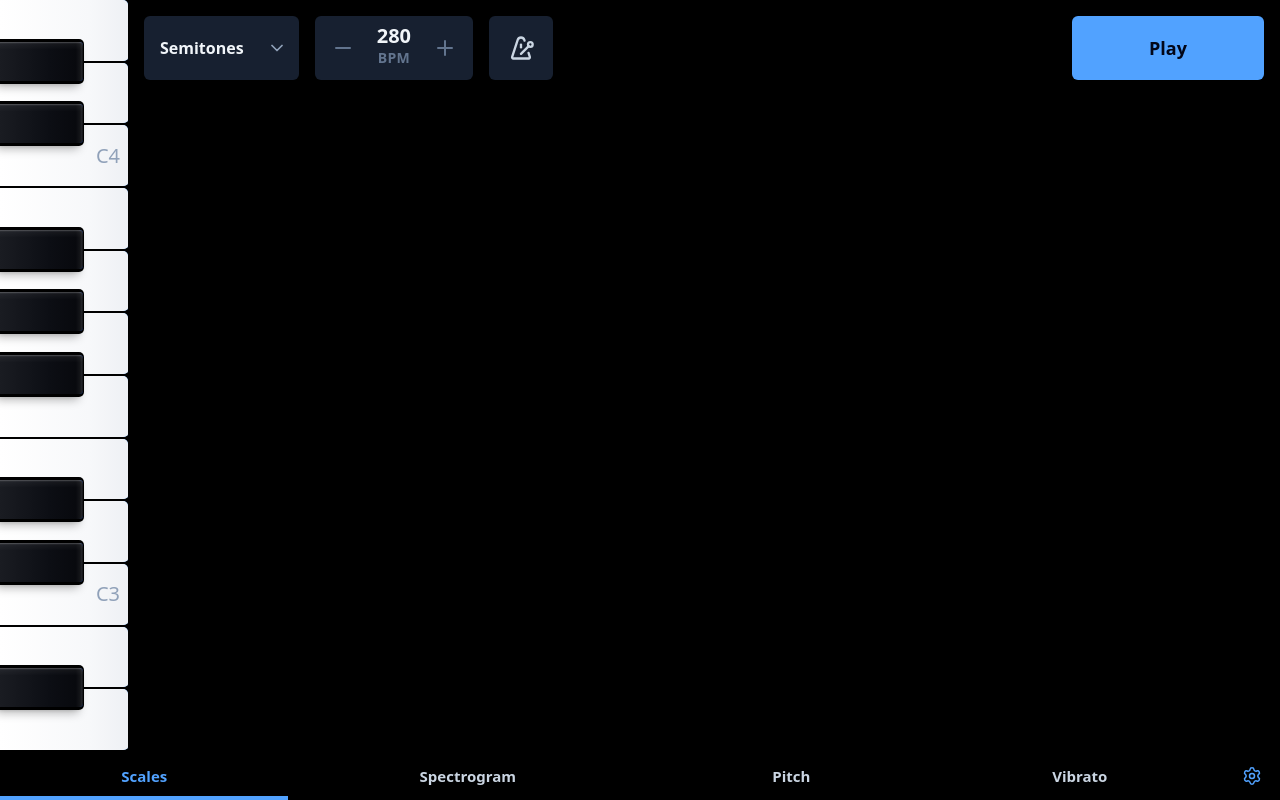
Scenario: Scales page › Settings opens directly from the scales page
Step 1. Click the button named "Open settings" → (1252, 776), box [1232,752,1272,799]
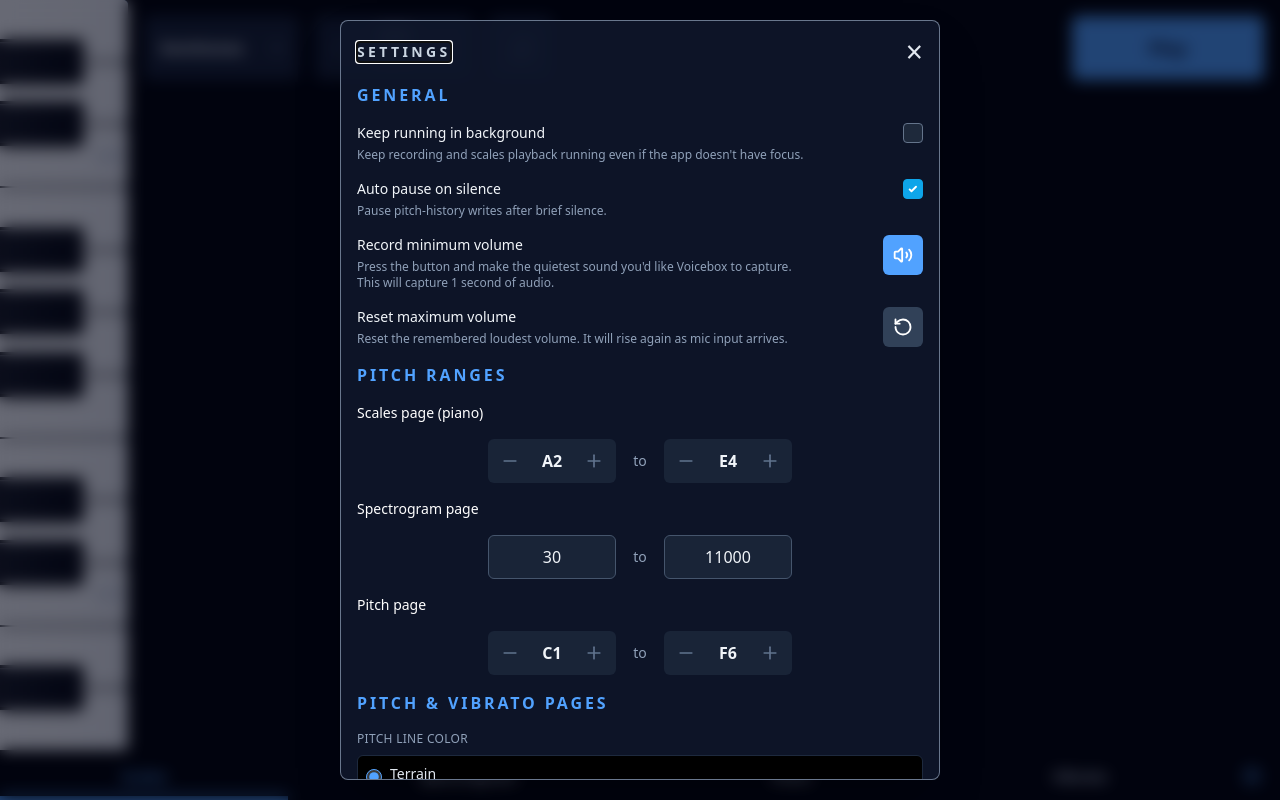
Expected: the button "Settings" is shown, [357,42,451,62]
